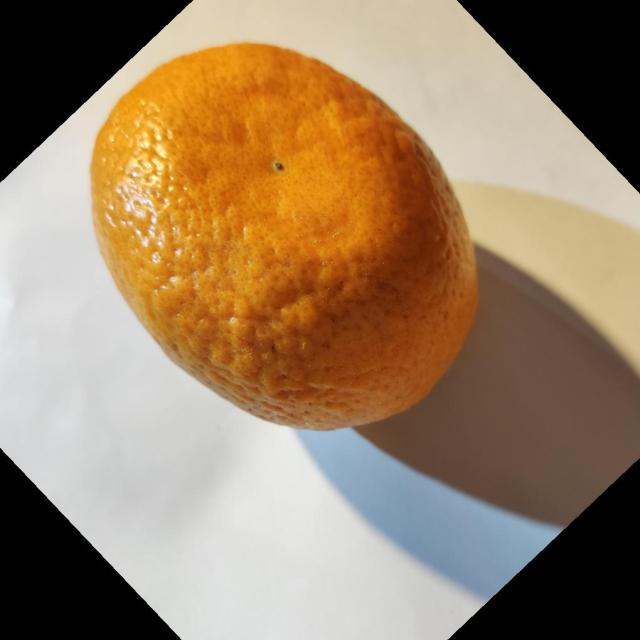fresh orange: (88, 40, 480, 432)
